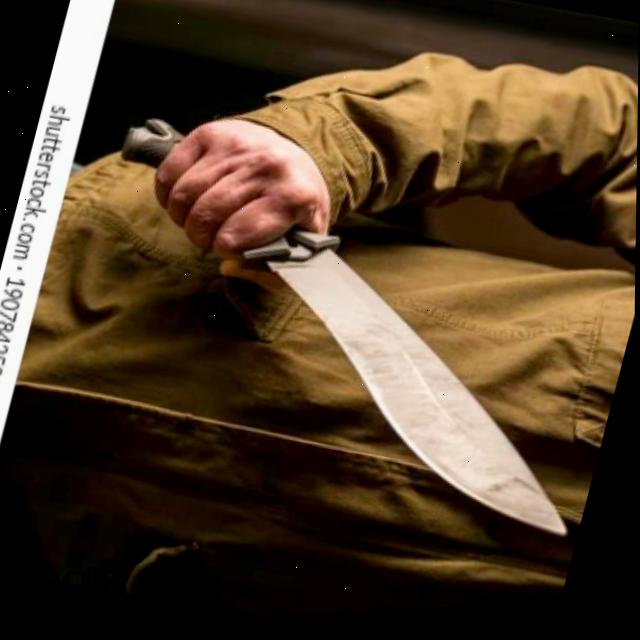long knife: (44, 73, 639, 593)
